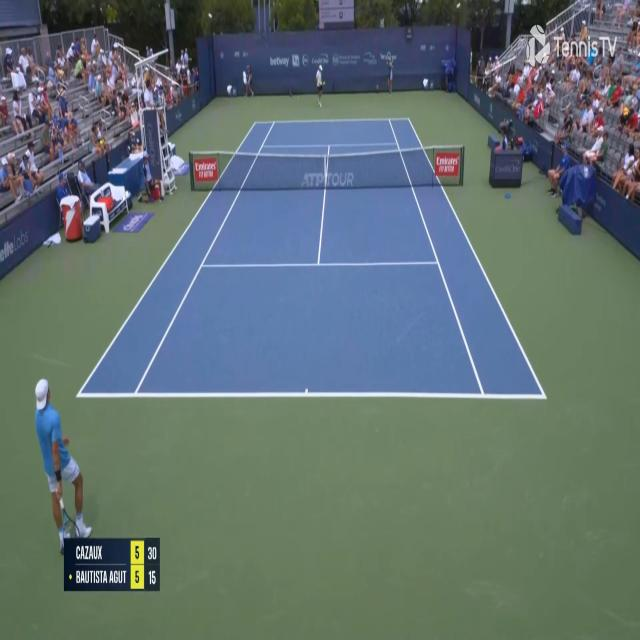tennis-player: (38, 371, 97, 554), (314, 63, 326, 108)
